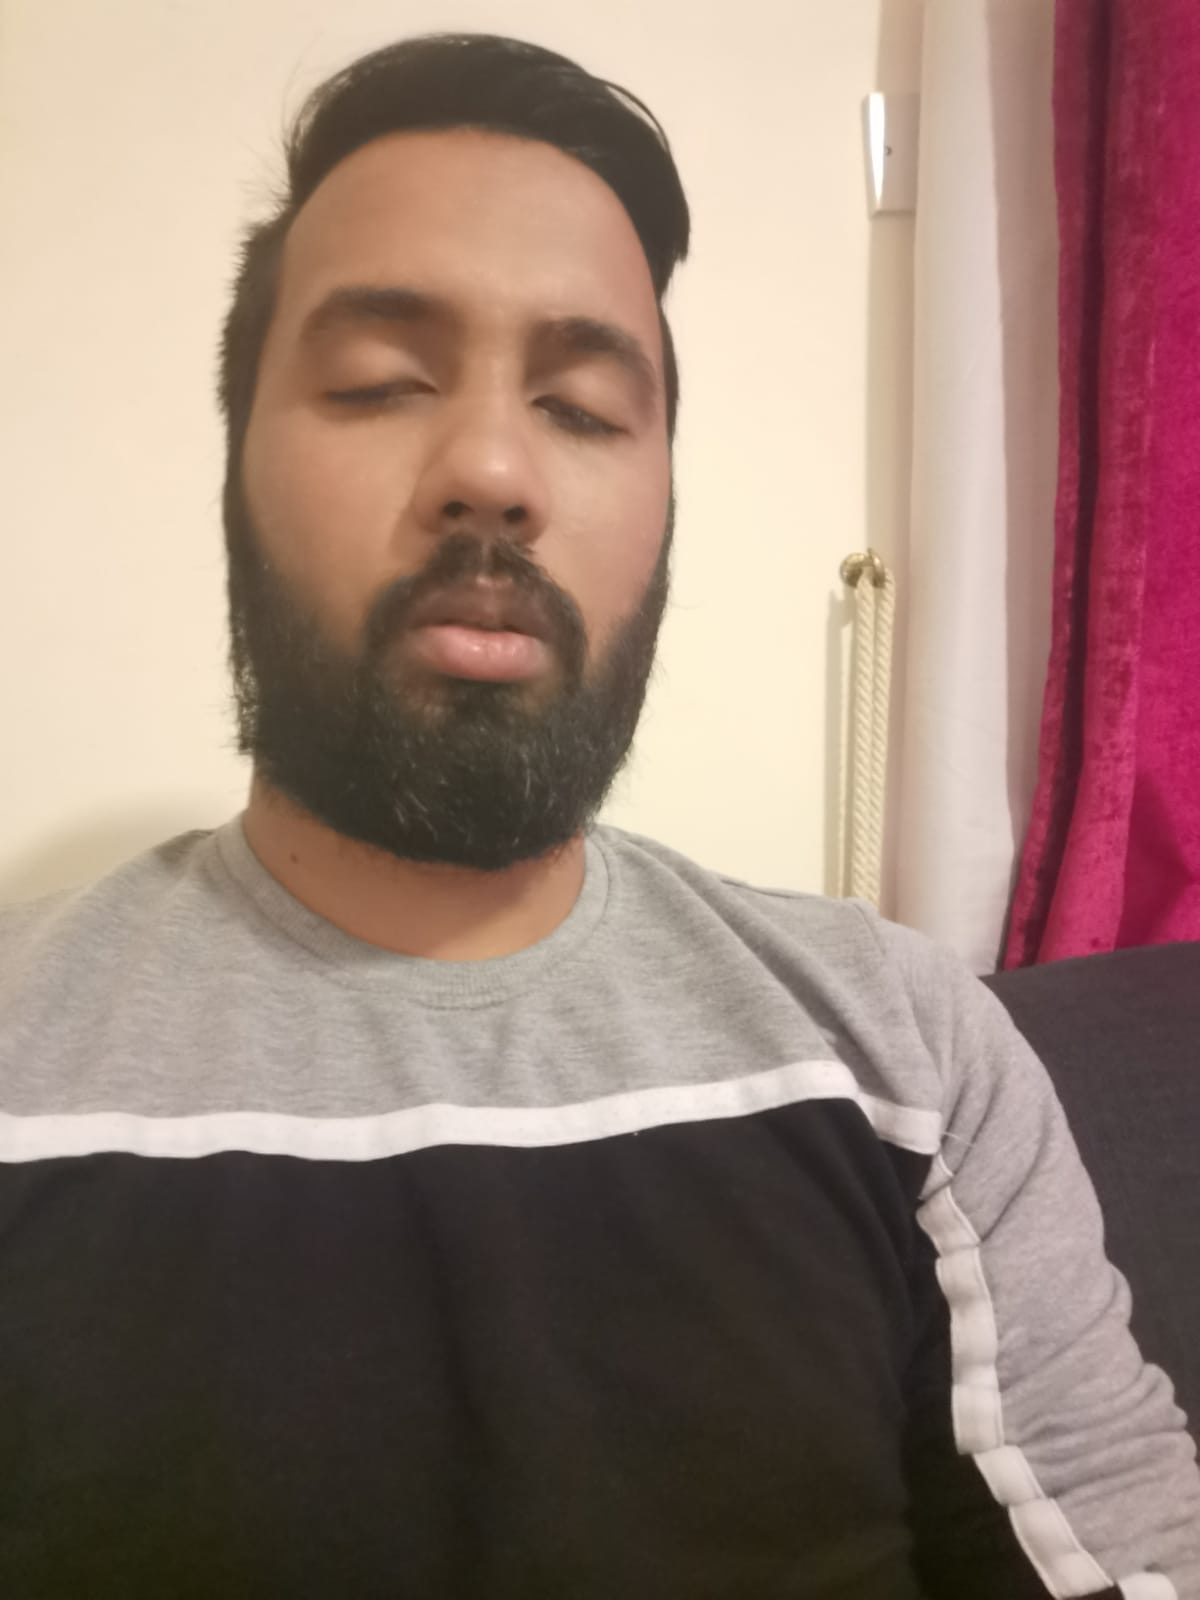Sleeping: (282, 317, 666, 457)
